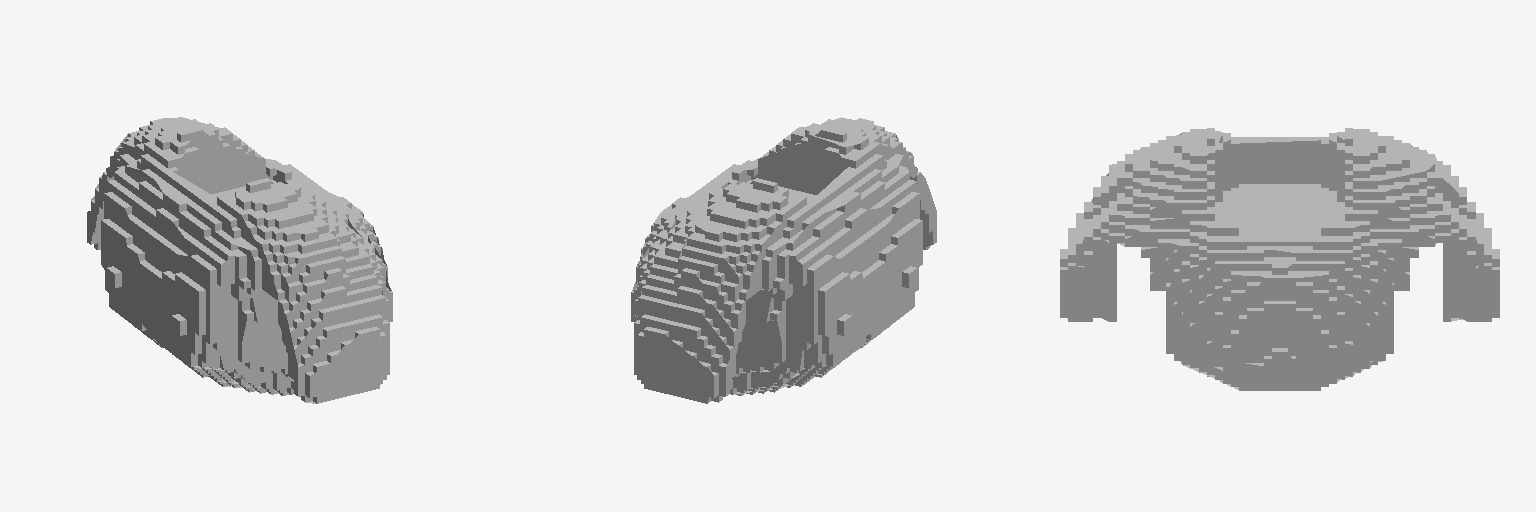
File: Armor_Brigandine_Male.obj
3 views of the same model, side by side, from view 1: azimuth 30°, elevation 25°; view 2: azimuth 150°, elevation 25°; view 3: azimuth 270°, elevation 25° (orthographic).
Visible parts, largest first — view 1: Armor_Brigandine_Male; view 2: Armor_Brigandine_Male; view 3: Armor_Brigandine_Male.
Boxes of the visible parts, box(x1,y1,x2,y2) form: Armor_Brigandine_Male: box(87, 117, 392, 403); Armor_Brigandine_Male: box(631, 117, 936, 403); Armor_Brigandine_Male: box(1060, 128, 1499, 390).
Bounding box in the file's own units: 0.32 × 0.29 × 0.54.